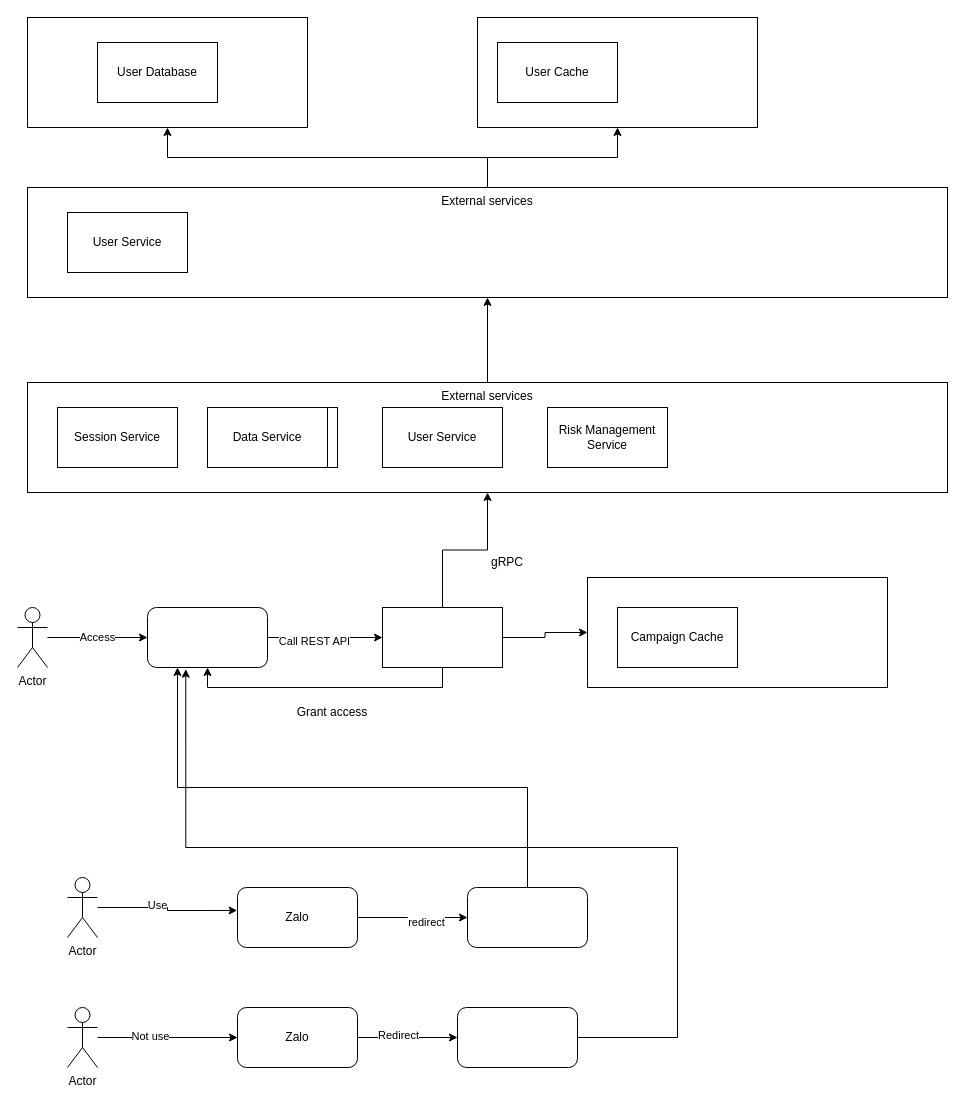
Some shapes in this 965 by 1106 pixel diagram are drawn without their labels. The box of each missing label's shape, as (x1, y1, x2, y2) in pixels:
External cache: (476, 16, 758, 128)
External database: (26, 16, 308, 128)
Frontend page React: (146, 606, 268, 668)
Marketing Service Java Spring boot: (382, 606, 502, 668)
Promotion cache: (586, 576, 888, 688)
Zalo login page: (456, 1006, 578, 1068)
Zalopay: (466, 886, 588, 948)
